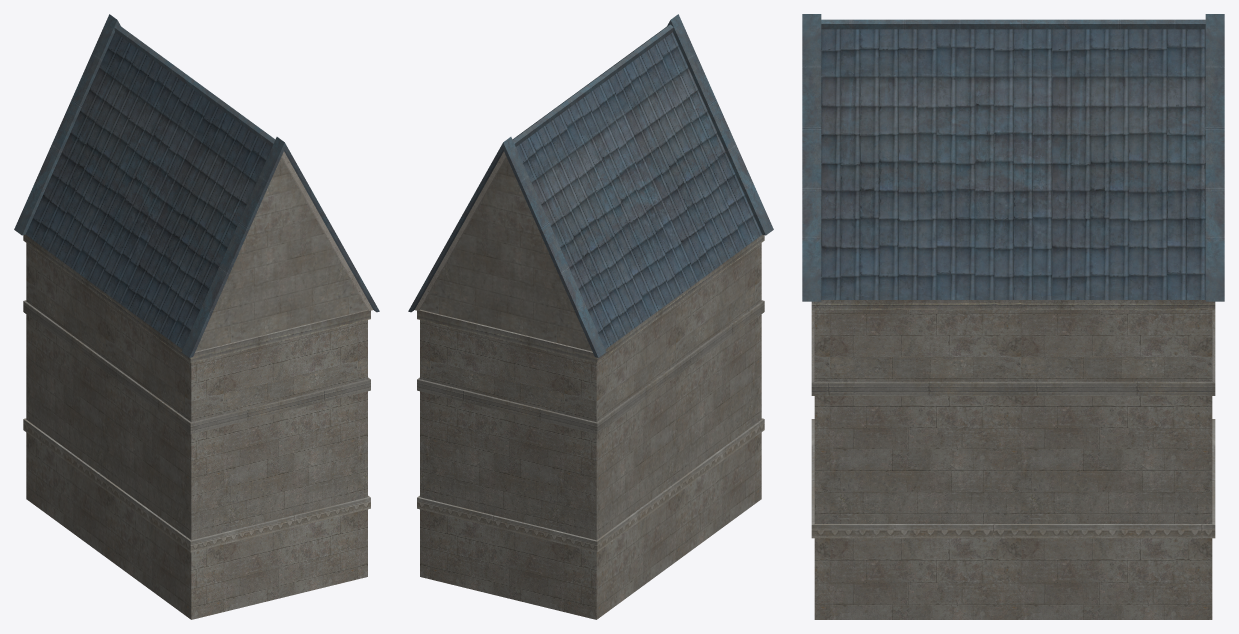
File: bg_lut_lucastle_house04_sm_sup.FBX
The picture shows the model from 3 angles, left to right: view 1: azimuth 30°, elevation 25°; view 2: azimuth 150°, elevation 25°; view 3: azimuth 270°, elevation 25°; orthographic projection. The views are drawn at different scales.
Parts seen in each view (by area): view 1: bg_lut_lucastle_house04_sm_sup; view 2: bg_lut_lucastle_house04_sm_sup; view 3: bg_lut_lucastle_house04_sm_sup.
Boxes of the visible parts, <box> form: bg_lut_lucastle_house04_sm_sup: <box>14,14,379,619</box>; bg_lut_lucastle_house04_sm_sup: <box>408,14,773,619</box>; bg_lut_lucastle_house04_sm_sup: <box>802,14,1224,619</box>.
Bounding box in the file's own units: 290 × 670 × 463.
